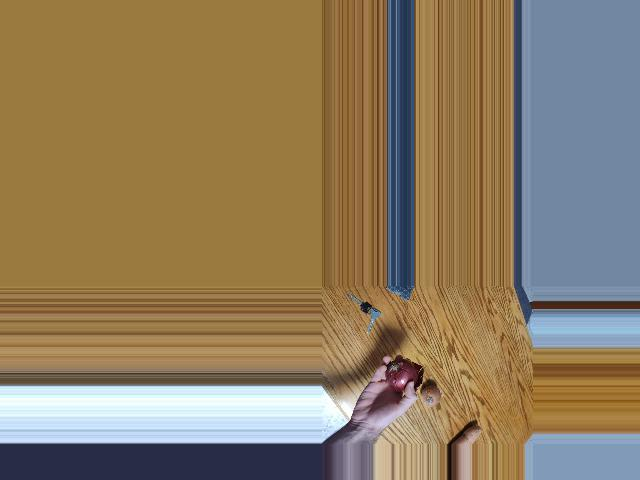onion: (387, 360, 417, 389)
